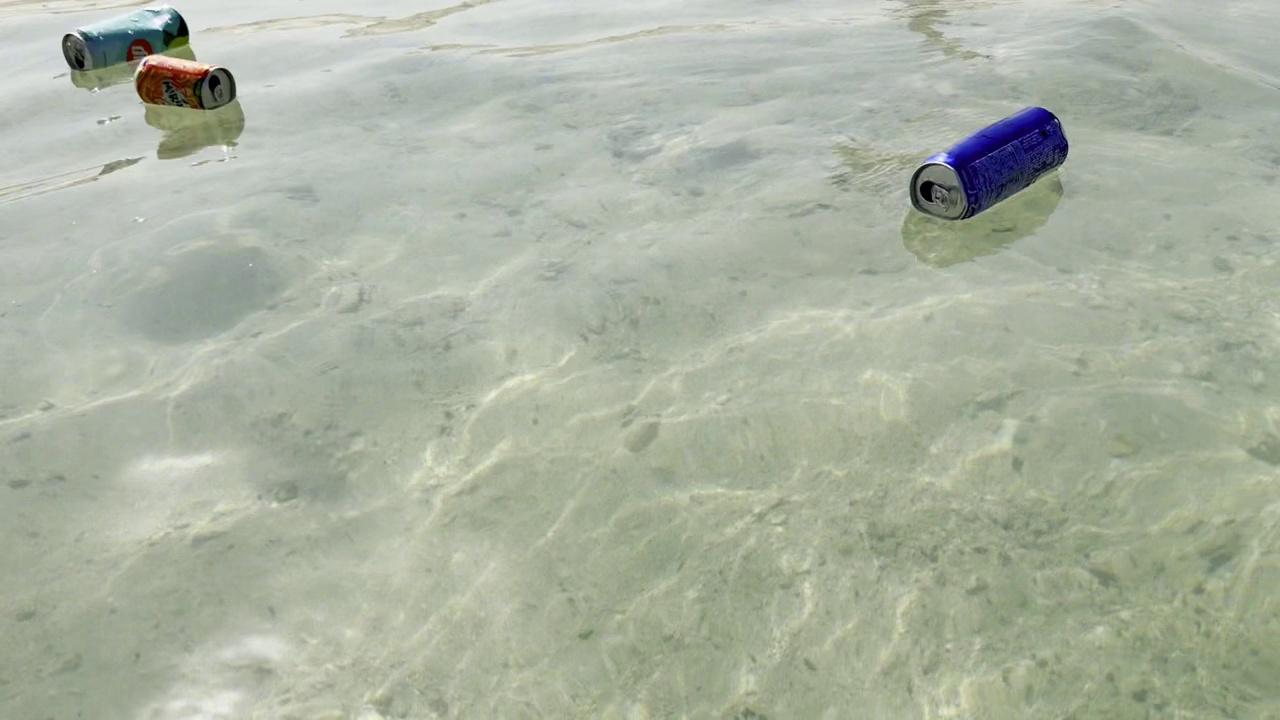debris: (899, 101, 1071, 223), (54, 0, 190, 85), (129, 54, 246, 119)
